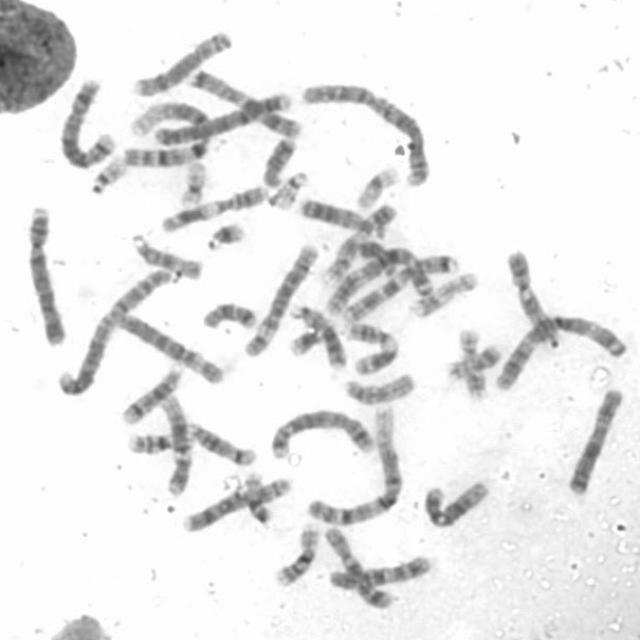A1: (302, 400, 406, 528), (120, 96, 213, 170)
A2: (50, 261, 174, 399), (295, 76, 434, 188)
A3: (490, 308, 629, 392), (319, 245, 462, 320)
B4: (147, 88, 294, 146), (21, 199, 71, 347)
B5: (266, 402, 378, 459), (54, 73, 119, 170)
C10: (320, 521, 398, 611), (325, 550, 435, 592)
C11: (154, 179, 271, 235), (339, 316, 400, 376)
C12: (156, 390, 194, 498), (419, 475, 492, 530)
C6: (239, 237, 322, 359), (112, 306, 228, 386)
C7: (325, 246, 461, 321), (182, 64, 302, 140)
C8: (127, 25, 236, 99), (178, 471, 295, 534)
C9: (316, 198, 398, 284), (500, 243, 564, 348)
D13: (284, 296, 349, 371), (294, 191, 383, 238)
D14: (116, 358, 186, 427), (181, 416, 260, 468)
D15: (127, 226, 205, 282), (338, 367, 418, 406)
E16: (270, 517, 322, 588), (122, 425, 196, 455)
E17: (405, 266, 480, 319), (454, 322, 490, 401)
E18: (257, 132, 299, 189), (197, 295, 260, 331)
F19: (351, 159, 403, 210), (173, 154, 210, 208)
F20: (440, 336, 504, 384), (239, 468, 274, 526)
G21: (201, 216, 249, 253), (283, 323, 325, 358)
G22: (262, 165, 311, 211), (86, 152, 129, 195)
X: (562, 382, 627, 497)
